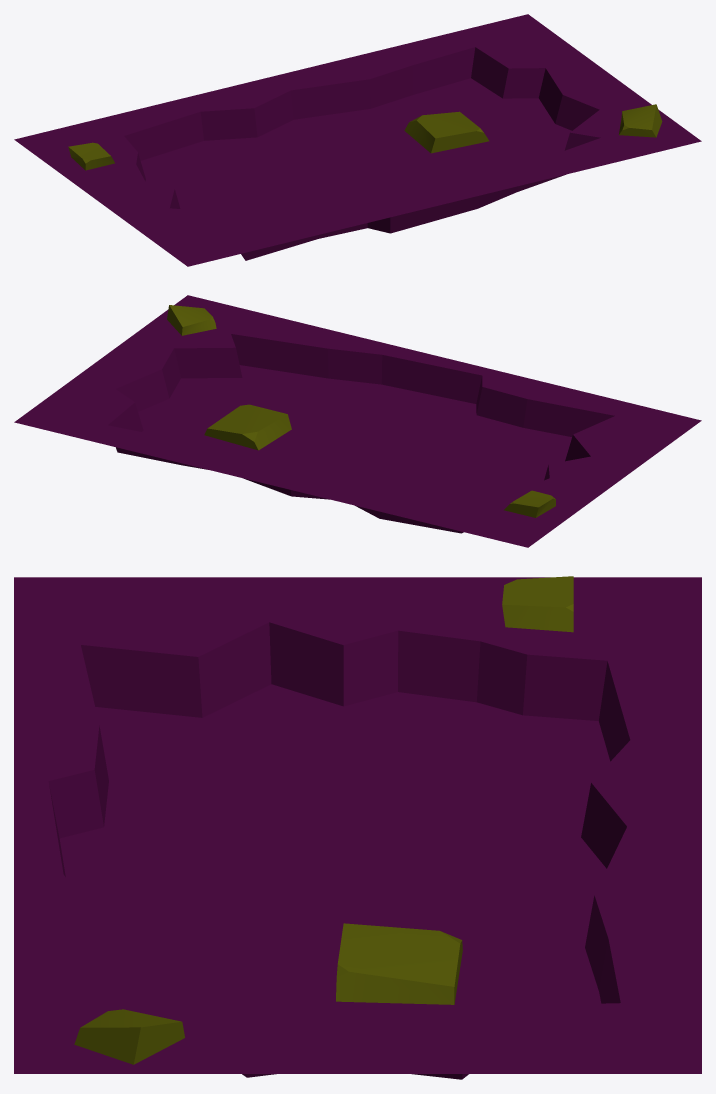
Rendered from Crevasse_1.fbx.
The picture shows the model from 3 angles, top to bottom: view 1: azimuth 30°, elevation 25°; view 2: azimuth 150°, elevation 25°; view 3: azimuth 270°, elevation 25°; orthographic projection. The views are drawn at different scales.
Parts seen in each view (by area): view 1: Crevasse1; view 2: Crevasse1; view 3: Crevasse1.
Boxes of the visible parts, <box> form: Crevasse1: <box>14,14,701,266</box>; Crevasse1: <box>14,295,701,547</box>; Crevasse1: <box>14,576,701,1079</box>.
Bounding box in the file's own units: 427 × 35.24 × 250.
